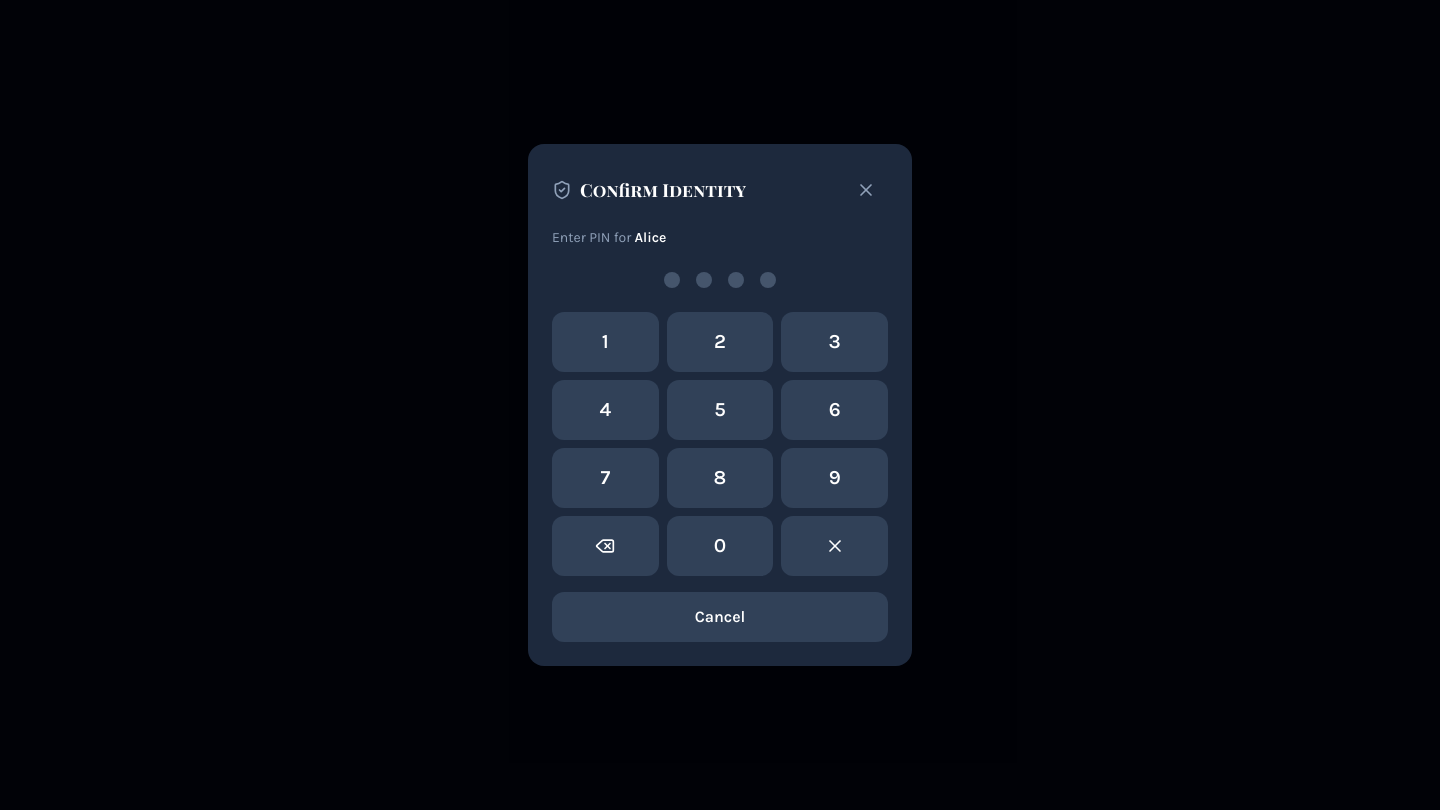
PinGate › shows error and clears digits on invalid PIN
Click the button "9" at (835, 478), box [781,448,888,508]
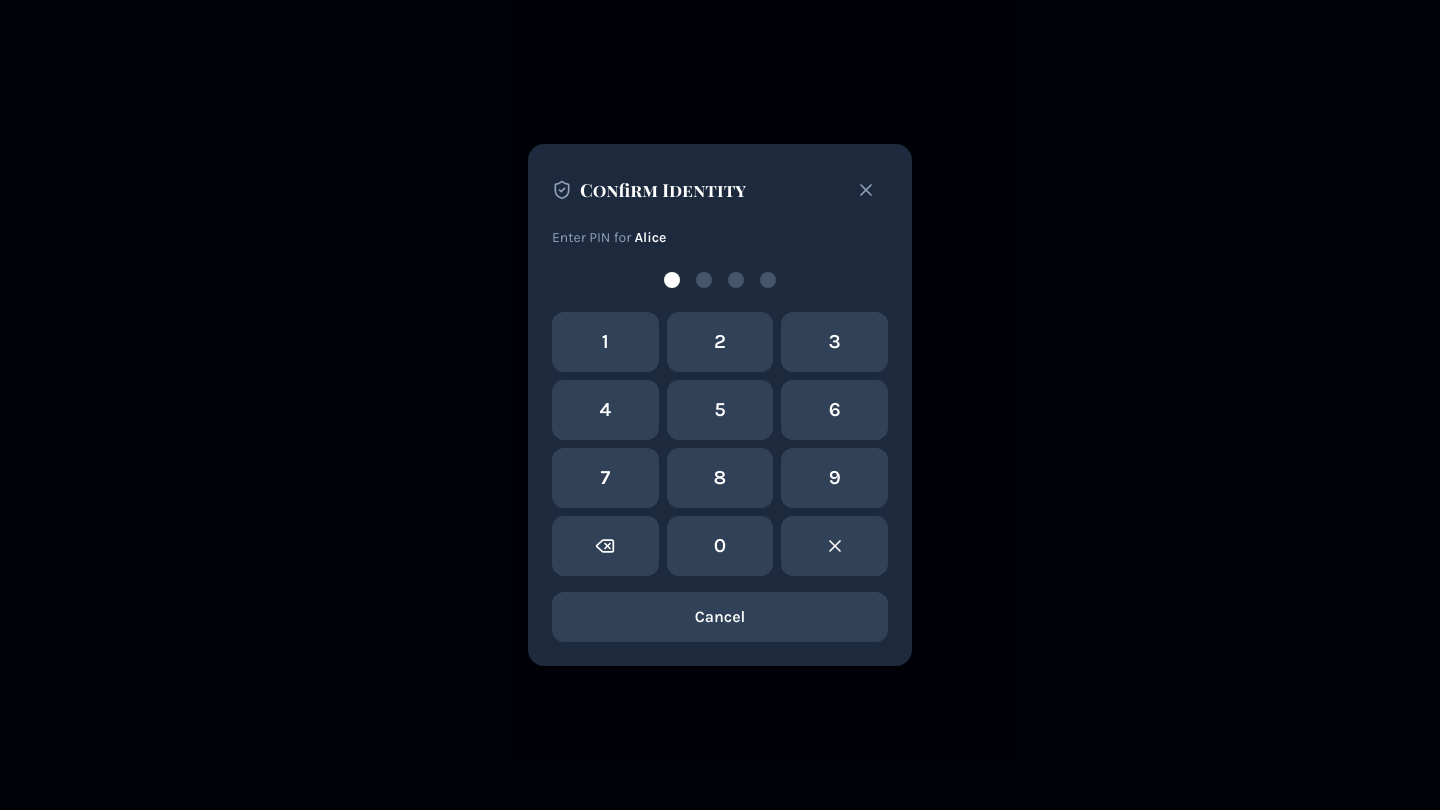
Click the button "9" at (835, 478), box [781,448,888,508]
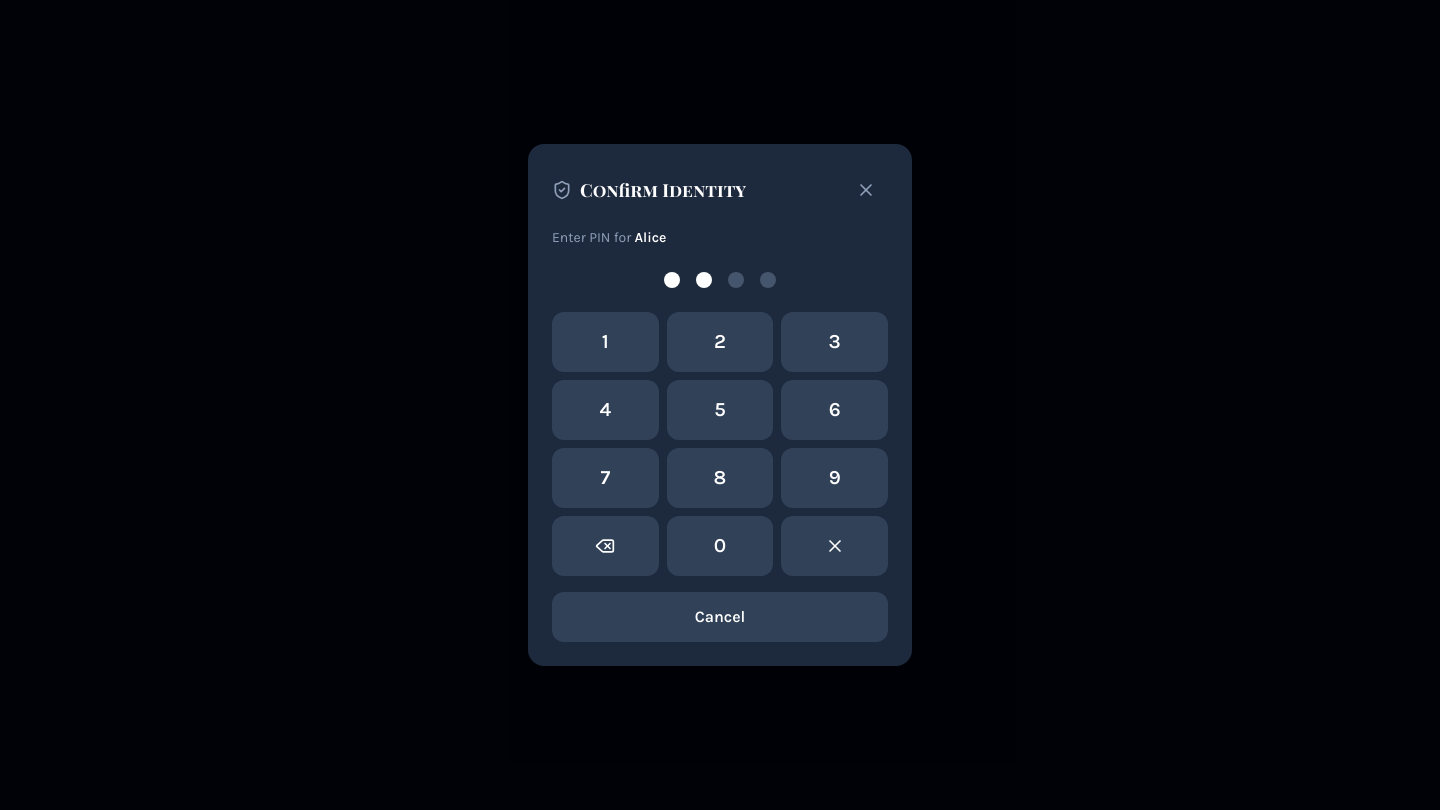
Click the button "9" at (835, 478), box [781,448,888,508]
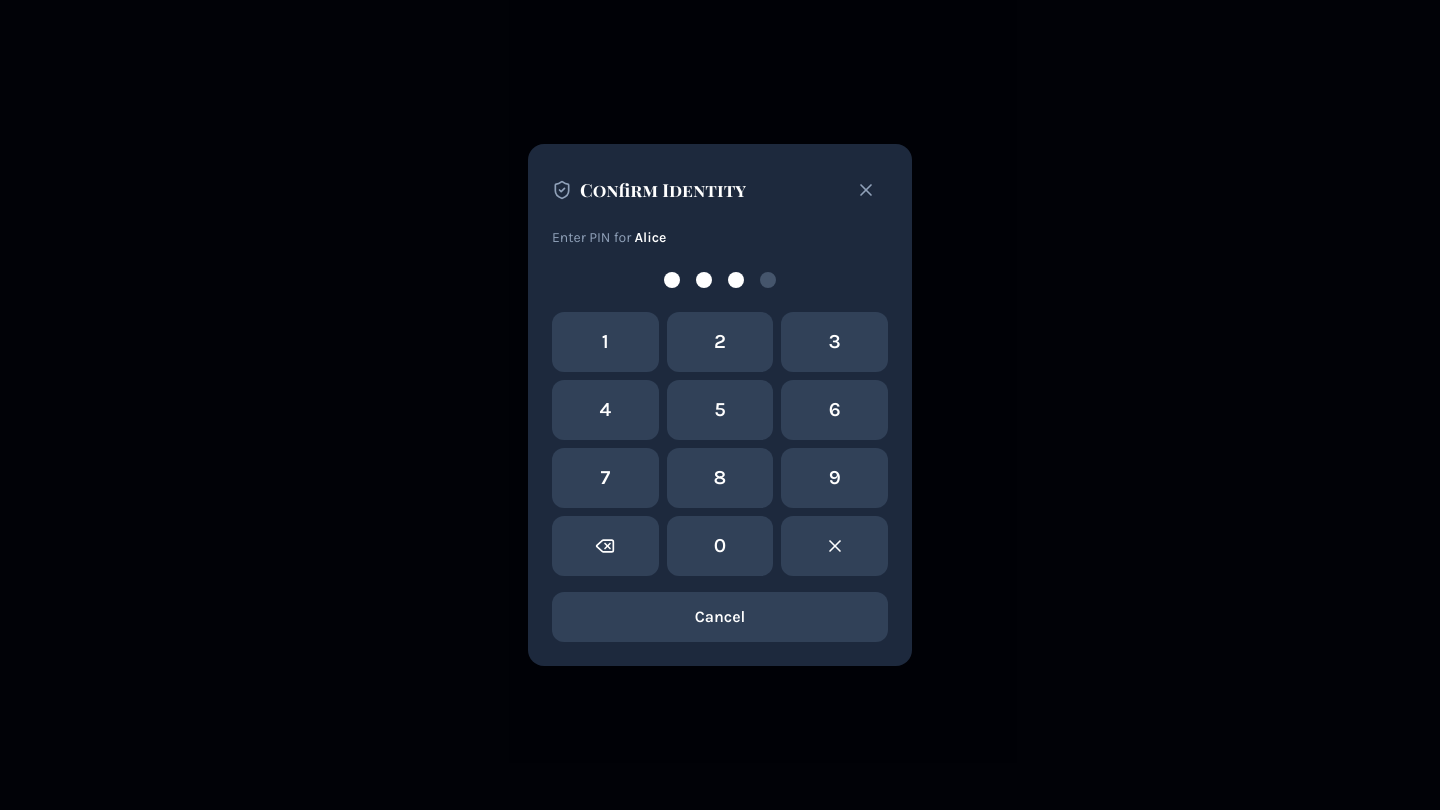
Click the button "9" at (835, 478), box [781,448,888,508]
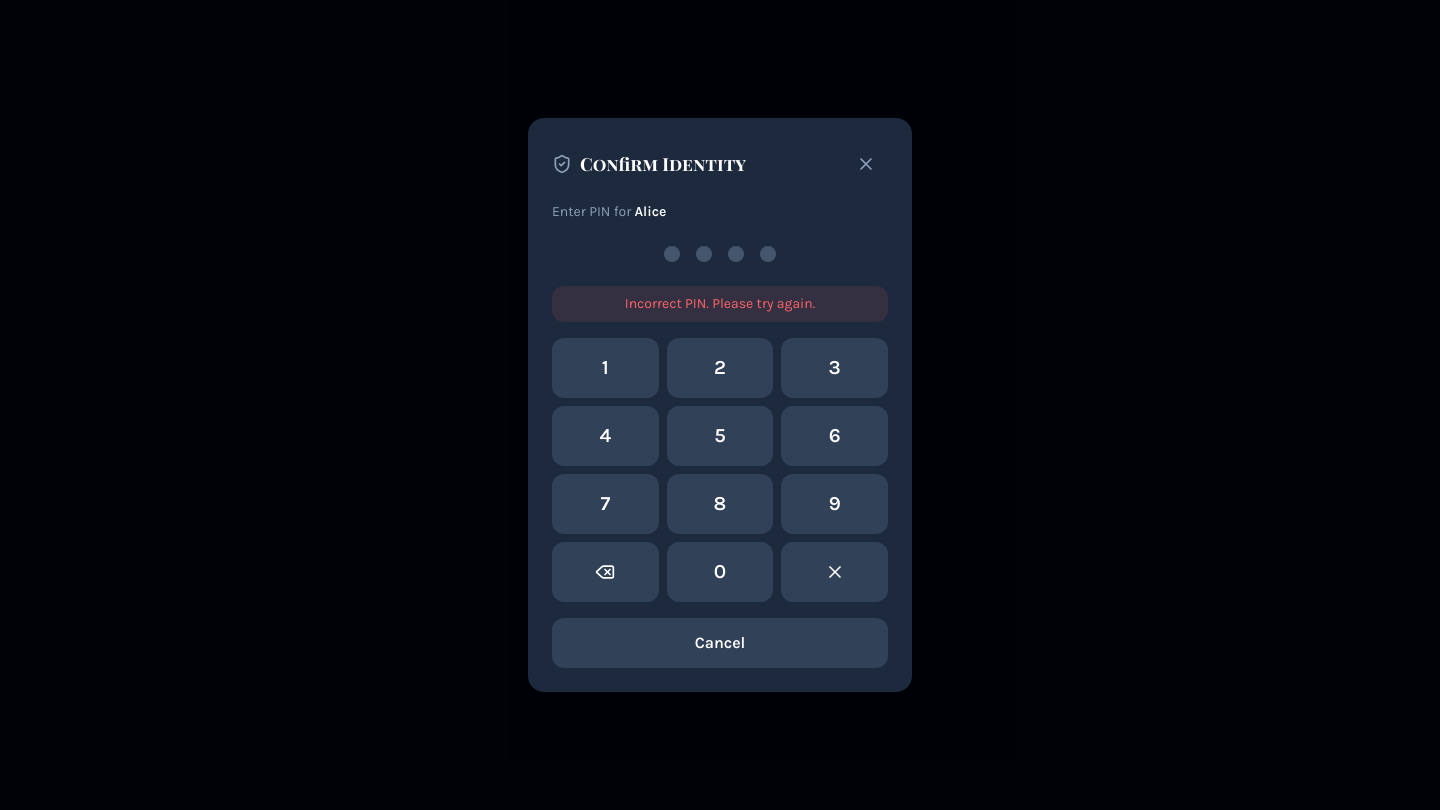
Expected: the message shows "Incorrect PIN", [625,295,815,312]
